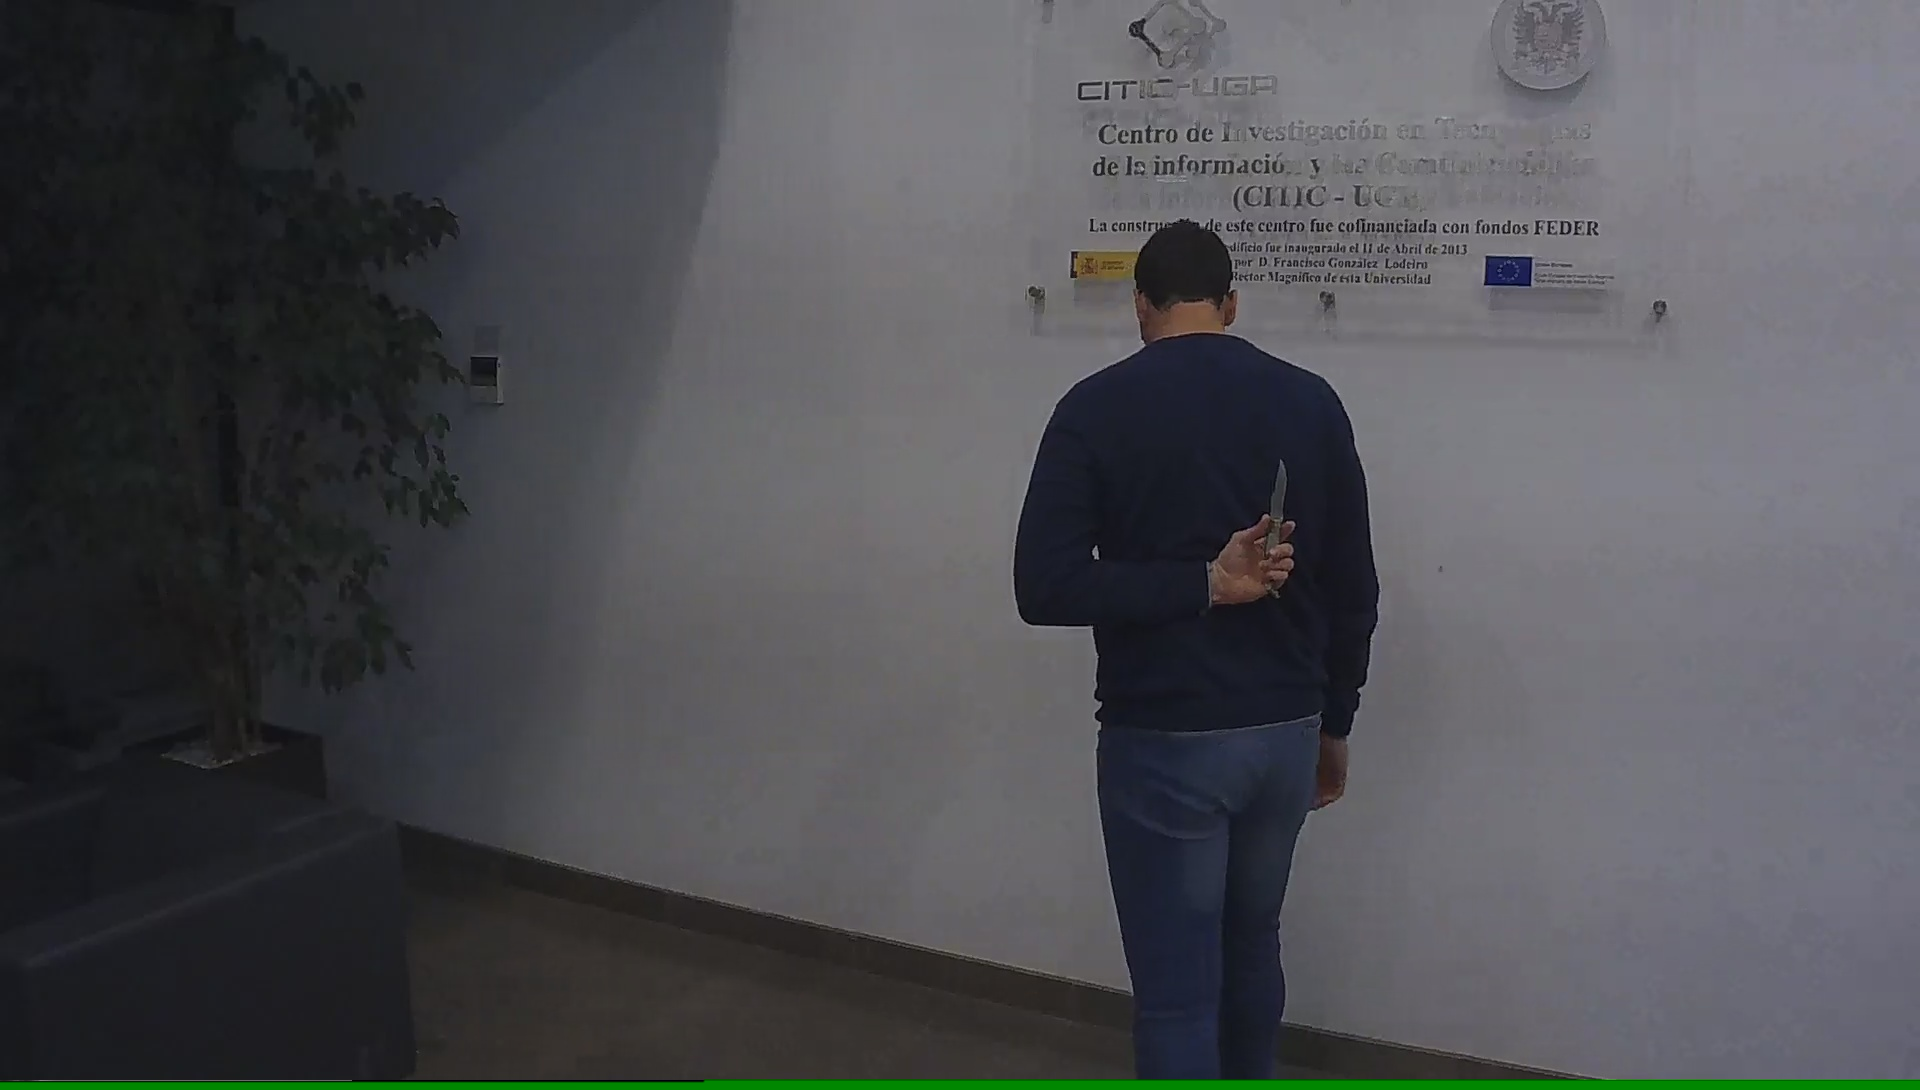knife: (1250, 449, 1302, 601)
